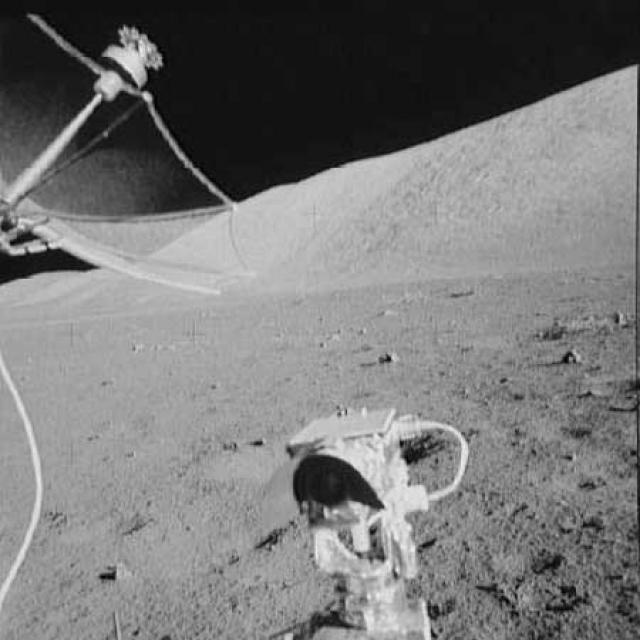artifact: (0, 0, 261, 299), (276, 396, 478, 638), (0, 358, 55, 612)
rock: (103, 557, 134, 585), (602, 306, 632, 332), (555, 343, 585, 366), (382, 343, 404, 366)
